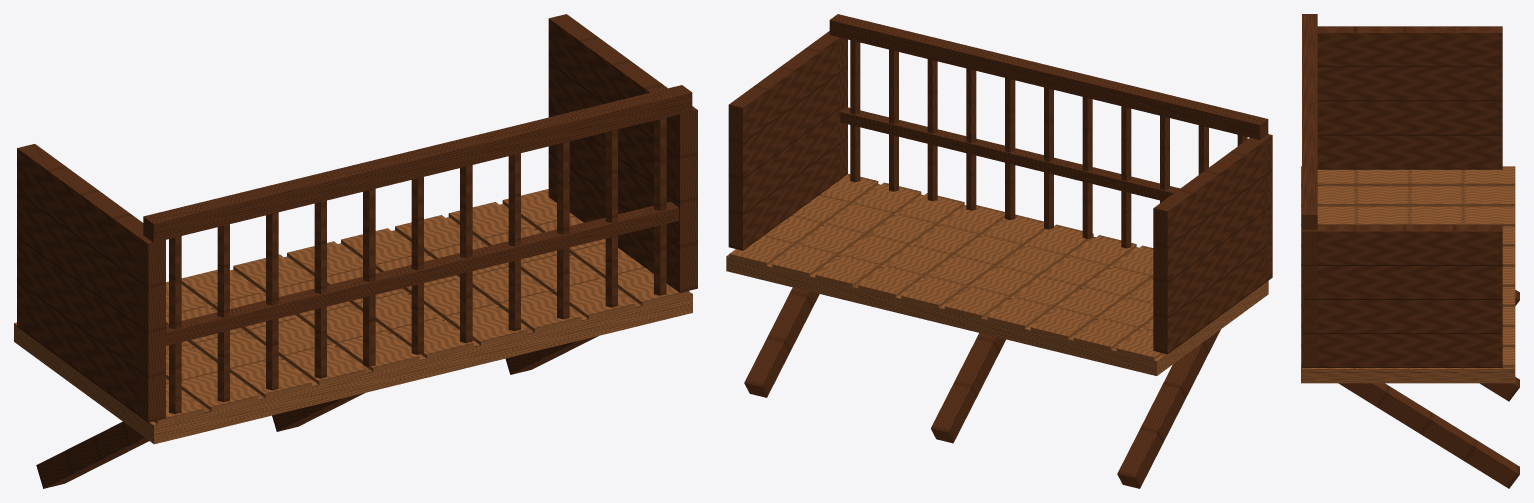
The model's file is pirate-port-and-tall-ships-balcony-section-a729d251__30146.glb.
3 views of the same model, side by side, from view 1: azimuth 30°, elevation 25°; view 2: azimuth 150°, elevation 25°; view 3: azimuth 270°, elevation 25° (orthographic). The views are drawn at different scales.
Visible parts, largest first — view 1: balcony-section; view 2: balcony-section; view 3: balcony-section.
Boxes of the visible parts, left/top/right/bottom form: balcony-section: left=14, top=14, right=697, bottom=488; balcony-section: left=726, top=14, right=1272, bottom=488; balcony-section: left=1301, top=14, right=1519, bottom=488.
Size of the model in its own units: 3.06 by 1.97 by 1.38.
2 materials, 2 textured.
